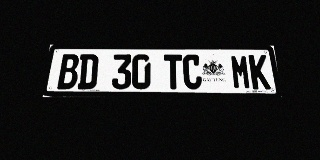0: (131, 54, 150, 89)
3: (111, 54, 132, 89)
B: (57, 54, 80, 89)
C: (182, 54, 202, 89)
D: (77, 54, 99, 89)
K: (248, 55, 271, 89)
M: (230, 55, 252, 89)
T: (164, 54, 183, 89)
